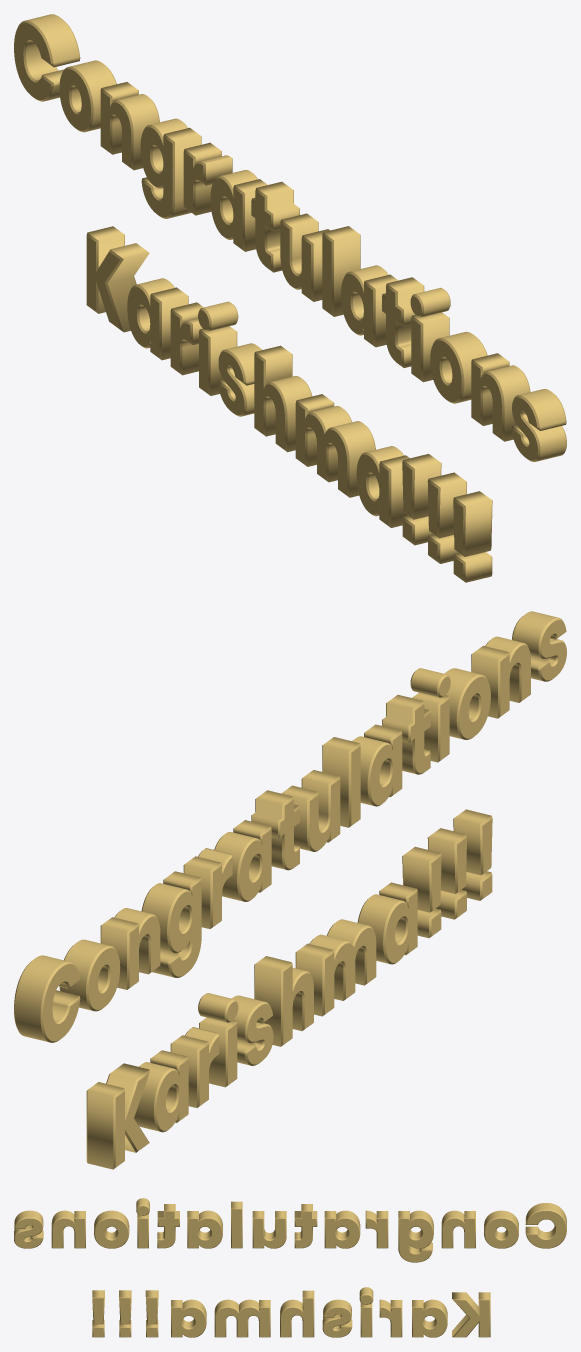
File: wishes4.gltf
3 renders of one model, top to bottom at view 1: azimuth 30°, elevation 25°; view 2: azimuth 150°, elevation 25°; view 3: azimuth 270°, elevation 25°, orthographic. The views are drawn at different scales.
Parts seen in each view (by area): view 1: Text.003; view 2: Text.003; view 3: Text.003.
Boxes of the visible parts, x1,y1,x2,y2 form: Text.003: (14, 14, 566, 582); Text.003: (14, 611, 566, 1169); Text.003: (14, 1198, 566, 1337).
Bounding box in the file's own units: 0.18 × 1.49 × 5.63.
